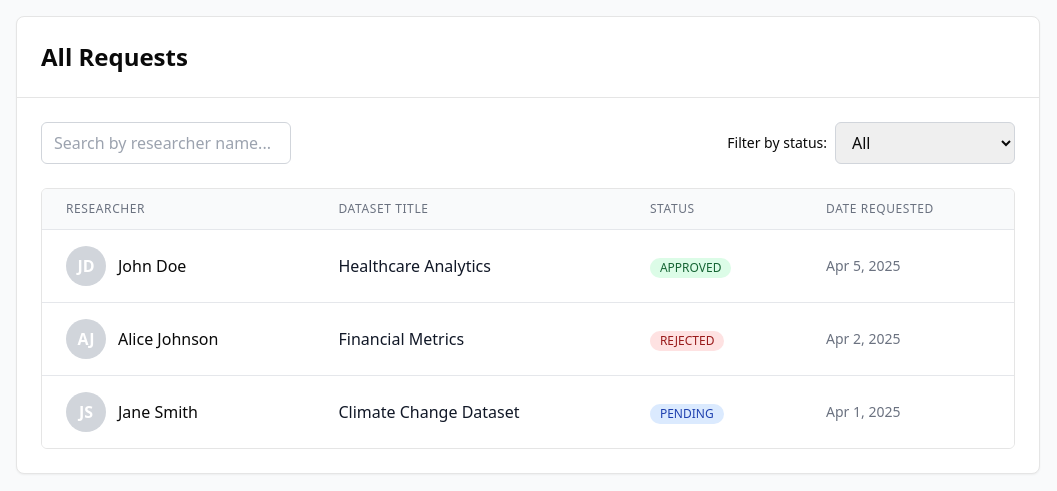
AllRequests Component › shows no requests message when filtered results are empty
expect the text "Jane Smith" is shown: met, box [118,400,198,424]
# Search for a name that doesn't exist
Type "Nobody" into the field with placeholder "Search by researcher name..." at (166, 143), box [41,122,291,164]
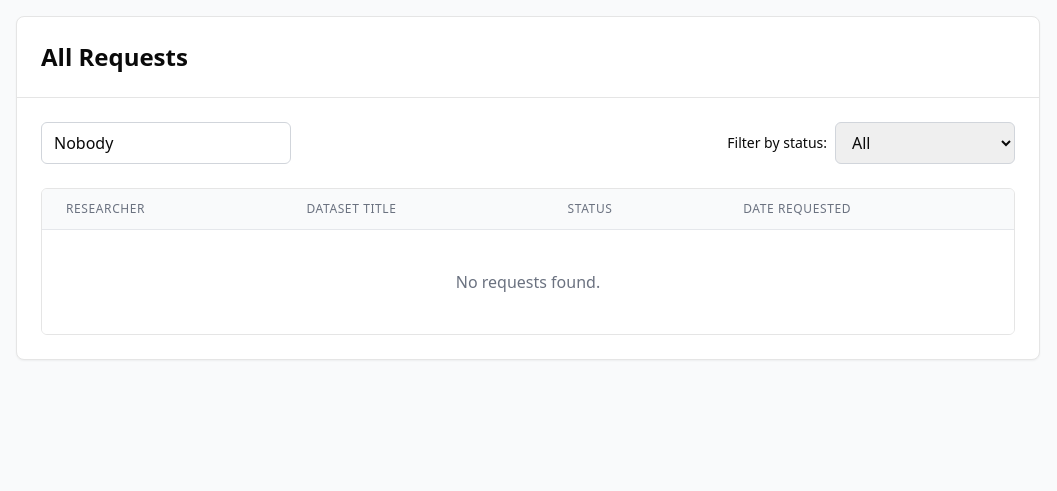
expect the text "No requests found." is shown: met, box [42,230,1014,334]
